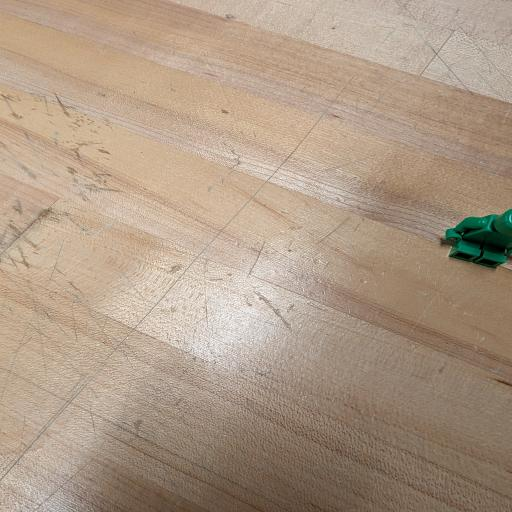Minifig: (445, 209, 512, 268)
